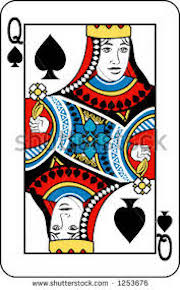QueenOfSpades: (1, 1, 180, 279)
